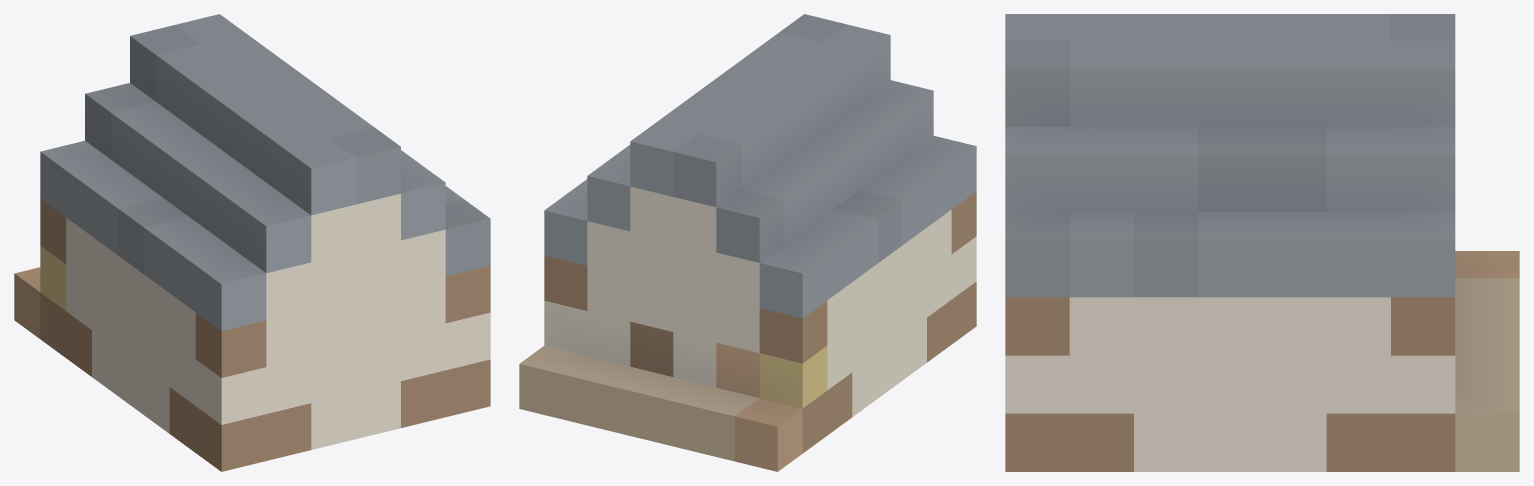
File: thread_spinner.lite.glb
3 renders of one model, left to right at view 1: azimuth 30°, elevation 25°; view 2: azimuth 150°, elevation 25°; view 3: azimuth 270°, elevation 25°, orthographic. The views are drawn at different scales.
Parts seen in each view (by area): view 1: thread_spinner; view 2: thread_spinner; view 3: thread_spinner.
Part boxes in pixels (<box>): thread_spinner: <box>14,14,490,471</box>; thread_spinner: <box>519,14,976,471</box>; thread_spinner: <box>1005,14,1519,471</box>.
Bounding box in the file's own units: 3 × 3 × 4.
